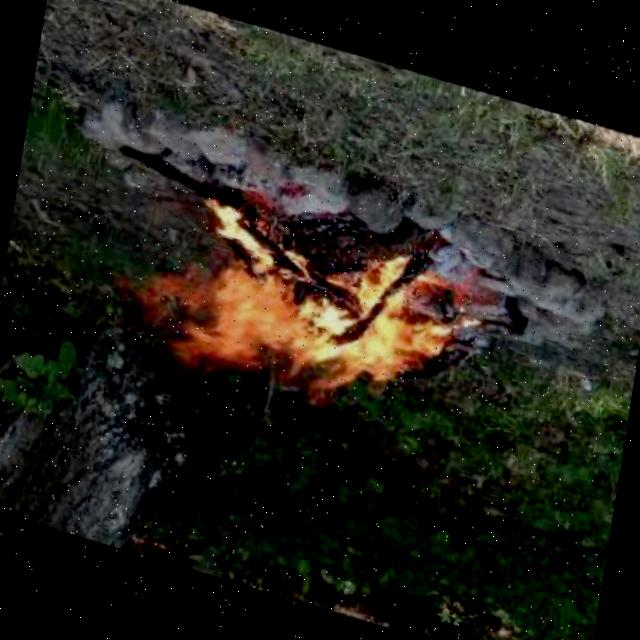fire: (80, 169, 488, 443)
